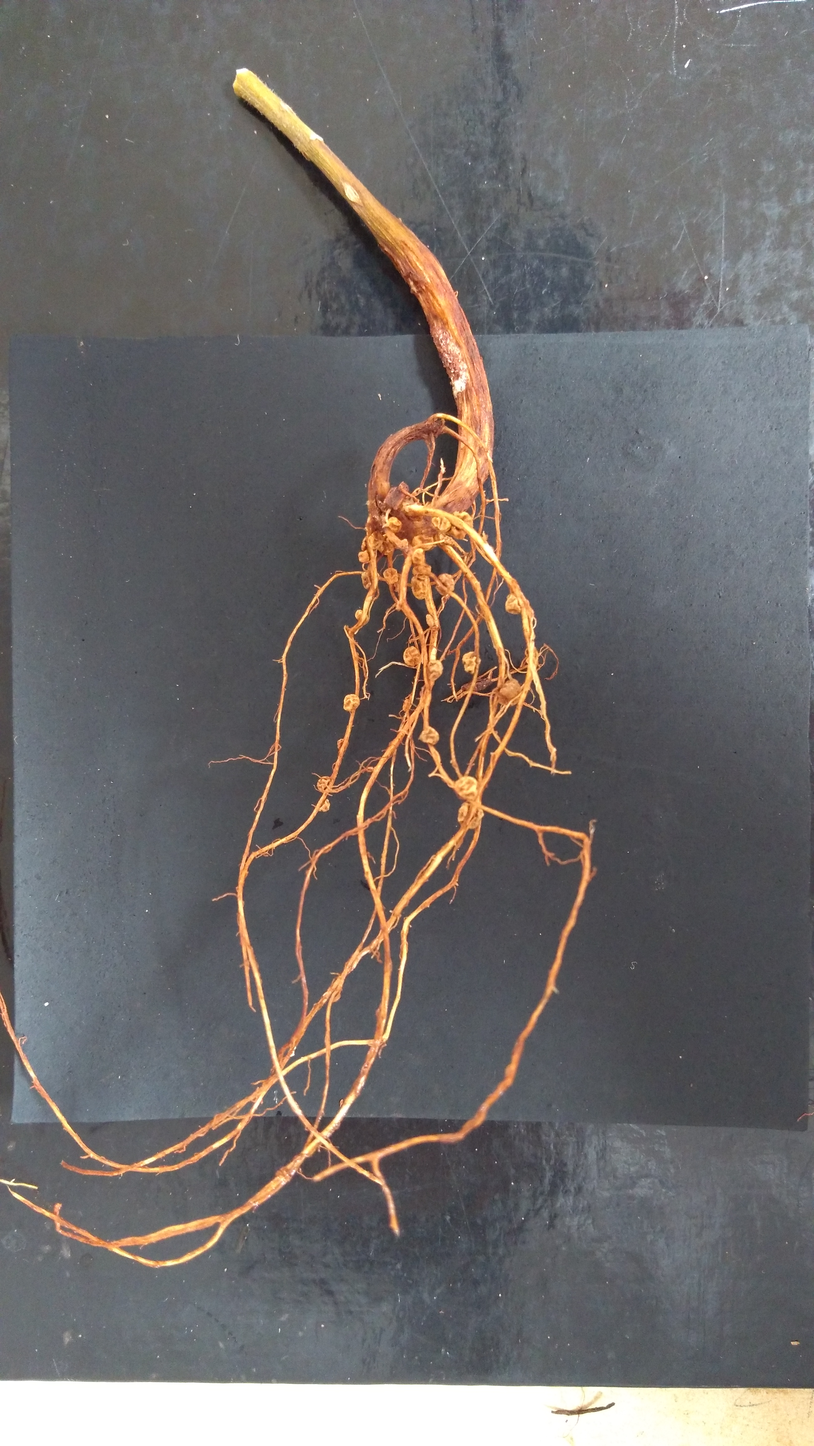nodule: (381, 482, 411, 511), (457, 799, 484, 829), (497, 678, 522, 708), (450, 510, 474, 541), (453, 775, 479, 802), (410, 574, 431, 600), (461, 650, 482, 675), (435, 573, 455, 598), (418, 725, 440, 746), (402, 645, 421, 667), (377, 533, 395, 556), (426, 659, 444, 682), (411, 562, 432, 581), (504, 593, 522, 615), (412, 534, 435, 551), (431, 515, 451, 534), (367, 529, 385, 550), (342, 693, 360, 712), (439, 533, 458, 549), (326, 984, 342, 1003), (316, 775, 332, 793), (383, 567, 398, 585), (360, 569, 373, 589), (386, 516, 402, 532), (411, 548, 425, 566), (357, 549, 371, 564), (355, 609, 369, 624), (361, 535, 374, 551), (318, 798, 331, 813), (424, 613, 437, 627), (393, 572, 401, 593), (336, 738, 349, 750), (402, 697, 412, 712), (400, 538, 409, 552), (395, 599, 403, 612), (481, 530, 488, 543)
